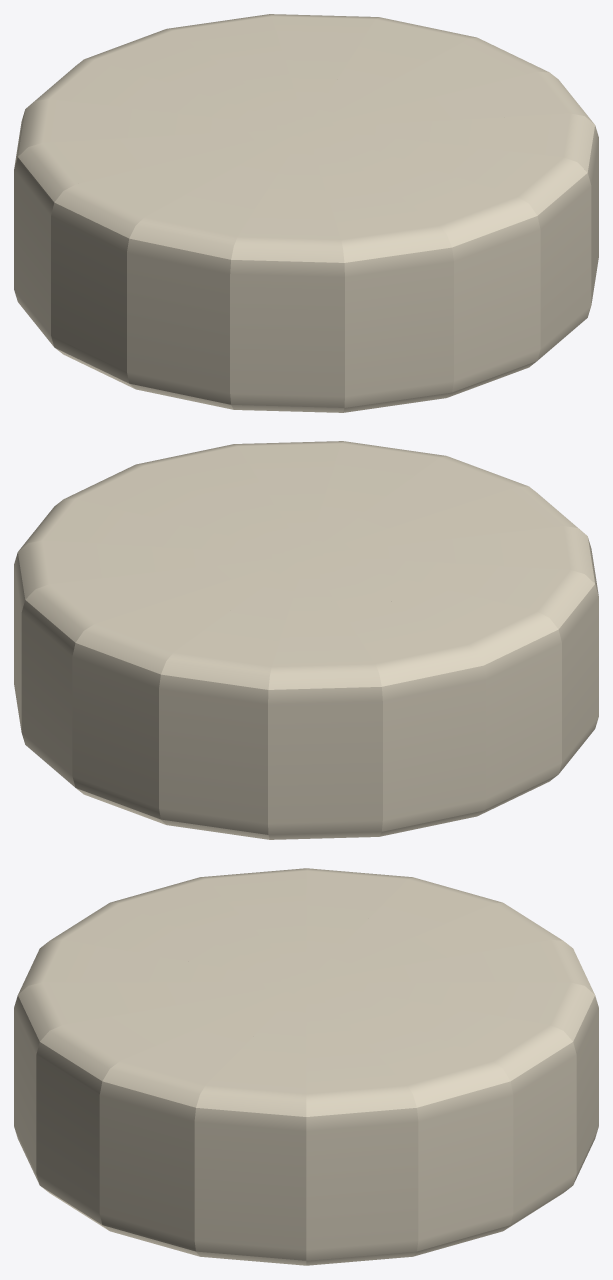
Rendered from Pandispanya_16P_Circle.fbx.
The picture shows the model from 3 angles, top to bottom: view 1: azimuth 30°, elevation 25°; view 2: azimuth 150°, elevation 25°; view 3: azimuth 270°, elevation 25°; orthographic projection.
Parts seen in each view (by area): view 1: pCylinder120, pCylinder121, pCylinder119, pCylinder122, pCylinder118, pCylinder123, pCylinder117, pCylinder124, pCylinder116, pCylinder125, pCylinder115, pCylinder126 (+4 smaller); view 2: pCylinder115, pCylinder114, pCylinder116, pCylinder113, pCylinder117, pCylinder112, pCylinder118, pCylinder111, pCylinder119, pCylinder126, pCylinder120, pCylinder125 (+4 smaller); view 3: pCylinder125, pCylinder126, pCylinder111, pCylinder124, pCylinder112, pCylinder123, pCylinder113, pCylinder122, pCylinder114, pCylinder121, pCylinder115, pCylinder120 (+4 smaller).
Boxes of the visible parts, x1,y1,x2,y2 form: pCylinder120: [230, 128, 344, 412]; pCylinder121: [306, 128, 453, 412]; pCylinder119: [127, 128, 305, 409]; pCylinder122: [307, 128, 540, 397]; pCylinder118: [51, 128, 305, 388]; pCylinder123: [307, 128, 591, 360]; pCylinder117: [14, 128, 304, 346]; pCylinder124: [307, 113, 598, 304]; pCylinder116: [14, 99, 305, 167]; pCylinder125: [308, 72, 593, 127]; pCylinder115: [28, 59, 304, 127]; pCylinder126: [307, 37, 548, 127]; pCylinder115: [268, 555, 382, 839]; pCylinder114: [159, 555, 306, 839]; pCylinder116: [307, 555, 485, 836]; pCylinder113: [72, 555, 305, 824]; pCylinder117: [307, 555, 561, 815]; pCylinder112: [21, 555, 305, 787]; pCylinder118: [308, 555, 598, 773]; pCylinder111: [14, 540, 305, 731]; pCylinder119: [307, 526, 598, 594]; pCylinder126: [19, 499, 304, 554]; pCylinder120: [308, 486, 584, 554]; pCylinder125: [64, 464, 305, 554]; pCylinder125: [194, 982, 306, 1265]; pCylinder126: [306, 982, 418, 1265]; pCylinder111: [307, 983, 513, 1256]; pCylinder124: [99, 983, 305, 1256]; pCylinder112: [307, 982, 576, 1230]; pCylinder123: [36, 982, 305, 1230]; pCylinder113: [307, 982, 598, 1184]; pCylinder122: [14, 982, 305, 1184]; pCylinder114: [308, 939, 594, 994]; pCylinder121: [18, 939, 304, 994]; pCylinder115: [307, 902, 562, 982]; pCylinder120: [50, 902, 305, 982].
Bounding box in the file's own units: 2 × 0.638 × 2.
